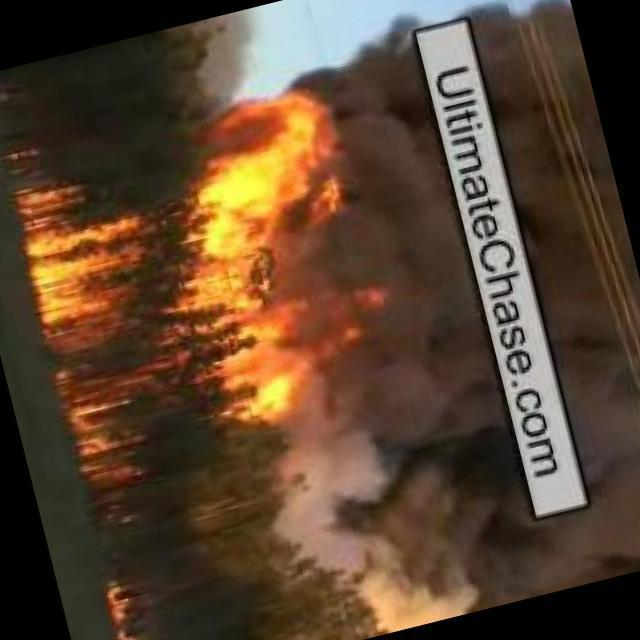Fire: (1, 84, 422, 520), (95, 580, 153, 640)
